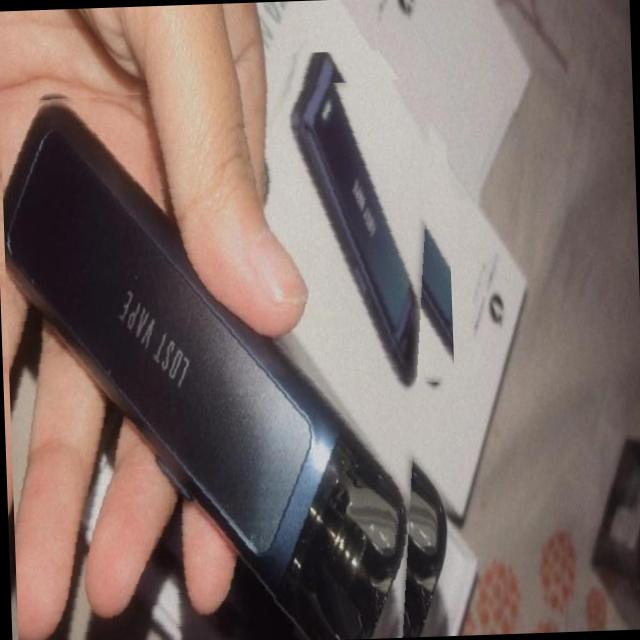Hazard: (0, 77, 451, 640), (287, 48, 453, 393)
